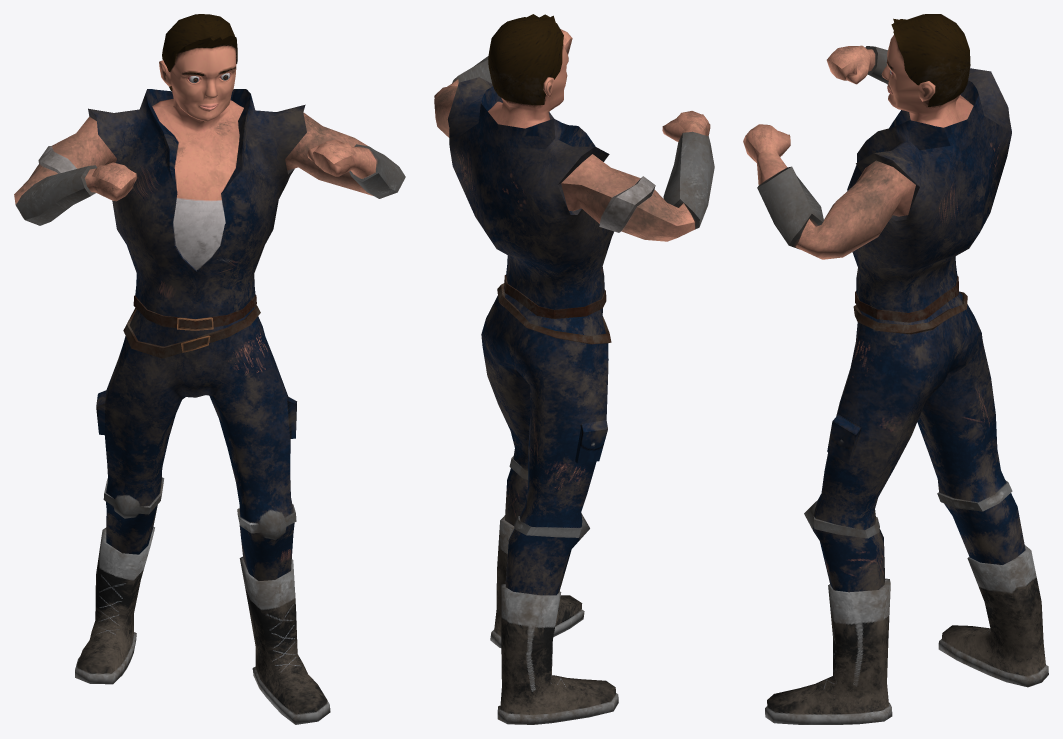
File: Anim_especial_jugador.0013.obj
3 renders of one model, left to right at view 1: azimuth 30°, elevation 25°; view 2: azimuth 150°, elevation 25°; view 3: azimuth 270°, elevation 25°, orthographic. The views are drawn at different scales.
Visible parts, largest first — view 1: polySurface1; view 2: polySurface1; view 3: polySurface1.
Part boxes in pixels (x1,y1,x2,y2): polySurface1: (14, 14, 405, 724); polySurface1: (434, 14, 714, 724); polySurface1: (743, 14, 1048, 724).
Size of the model in its own units: 4.94 by 9.56 by 3.88.
